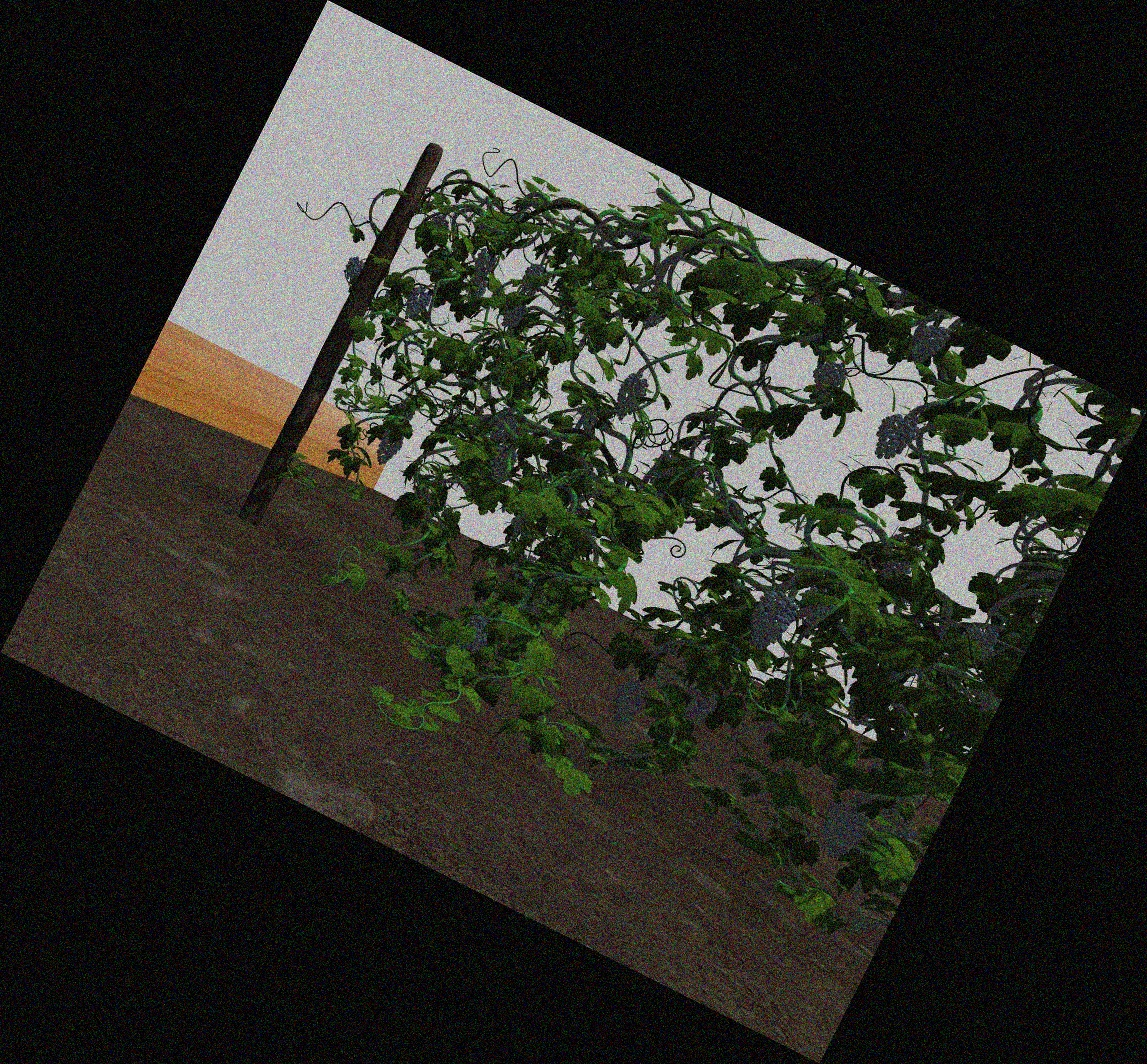grape: (822, 803, 865, 858), (750, 593, 788, 651), (877, 413, 912, 461), (613, 680, 646, 727), (617, 375, 645, 420), (801, 587, 832, 626), (684, 687, 715, 725), (916, 324, 945, 362), (813, 361, 845, 390), (967, 627, 997, 657), (489, 447, 513, 481), (406, 287, 428, 321), (377, 431, 399, 465), (522, 264, 544, 297), (465, 618, 487, 651), (494, 413, 513, 443), (504, 303, 523, 329), (475, 251, 493, 276), (468, 277, 487, 297), (345, 257, 361, 279)
